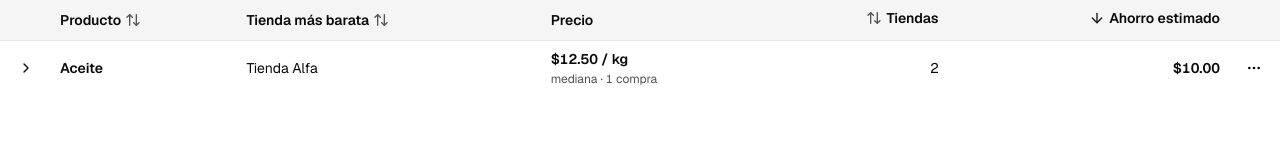
Test: PricesTable row menu (D-18, D-19, E5) › offers only «Marcar como no comparable» on a compared row
Click the button named "Más acciones de «Aceite»" at (1254, 68), box [1236,50,1272,86]
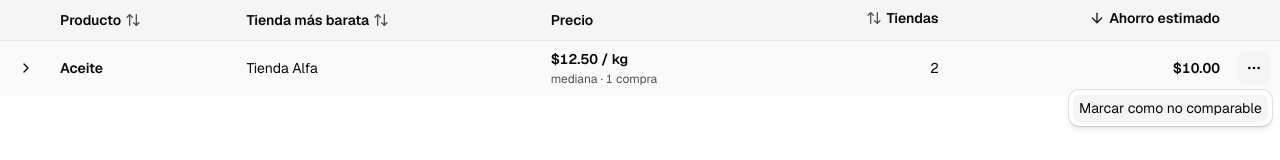
Check: the number of menu items is 1, box [1073,94,1268,122]
